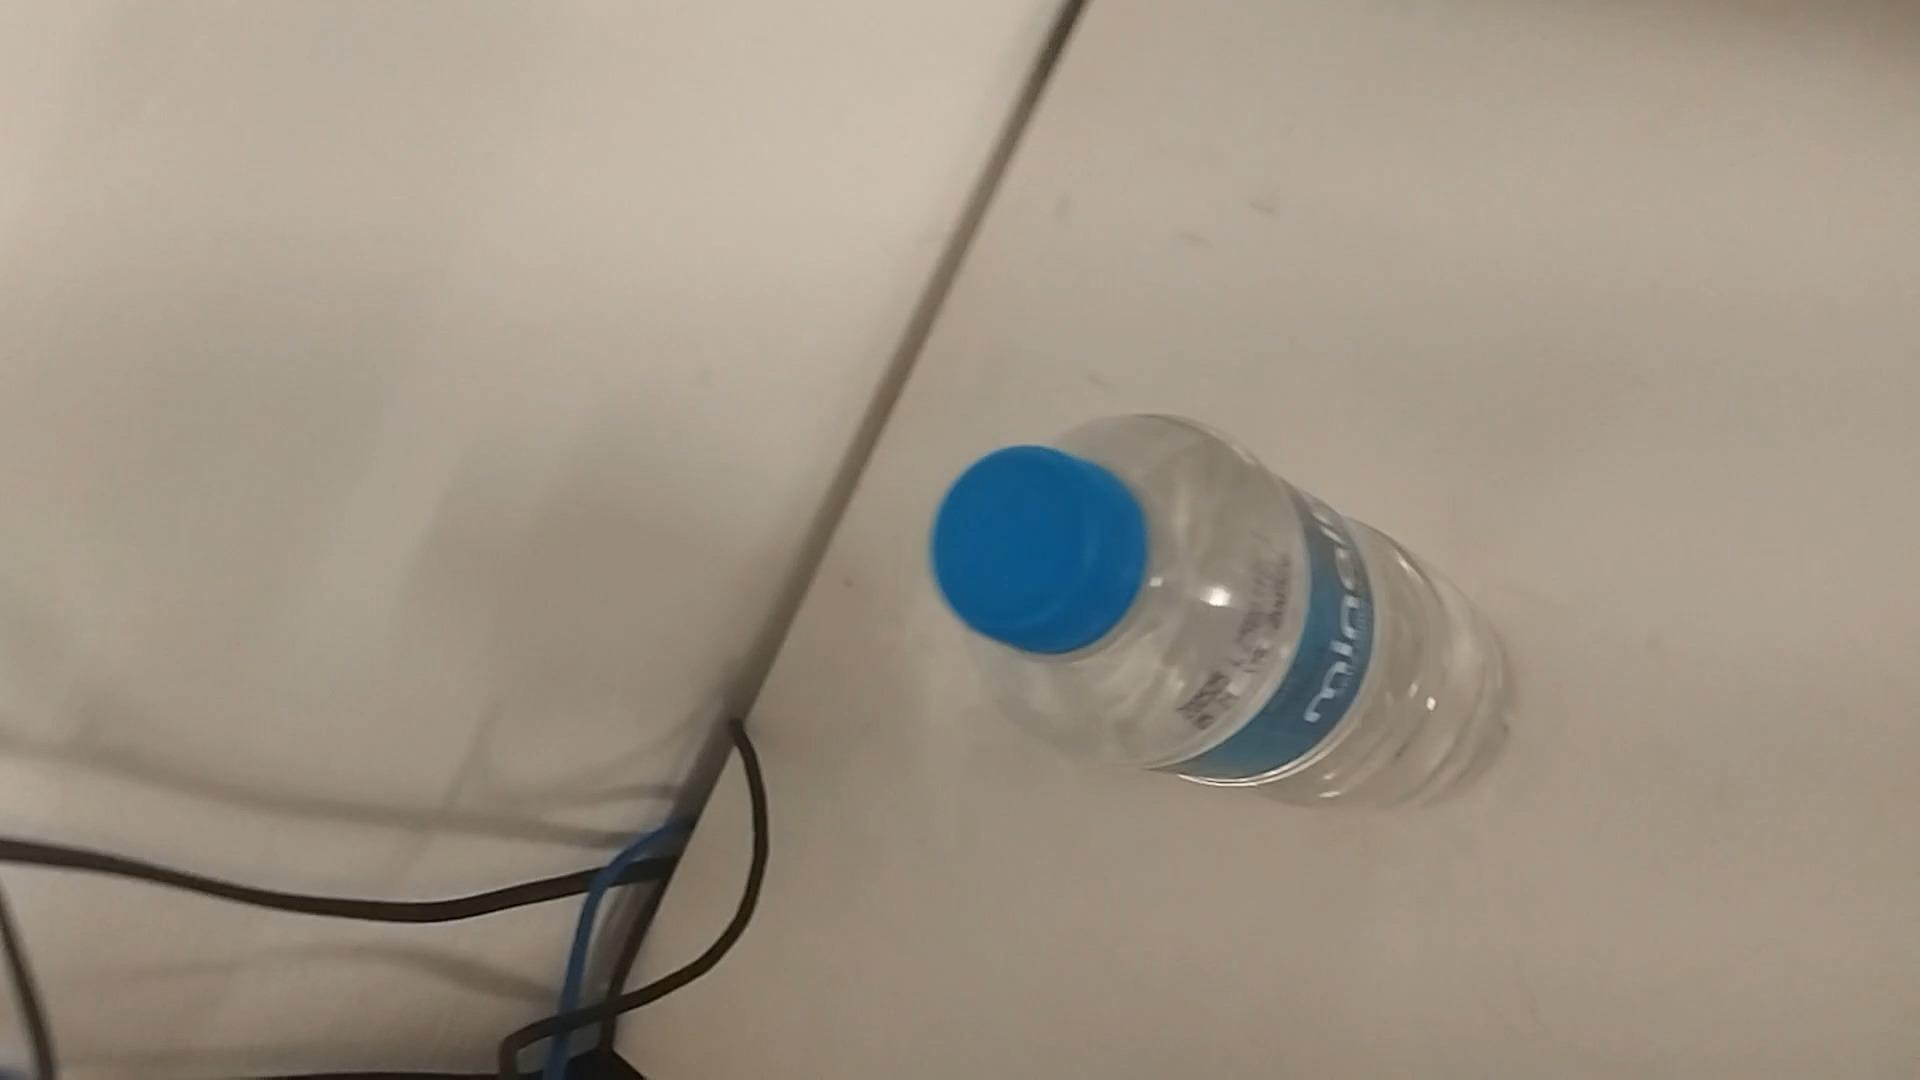agua: (931, 411, 1491, 806)
